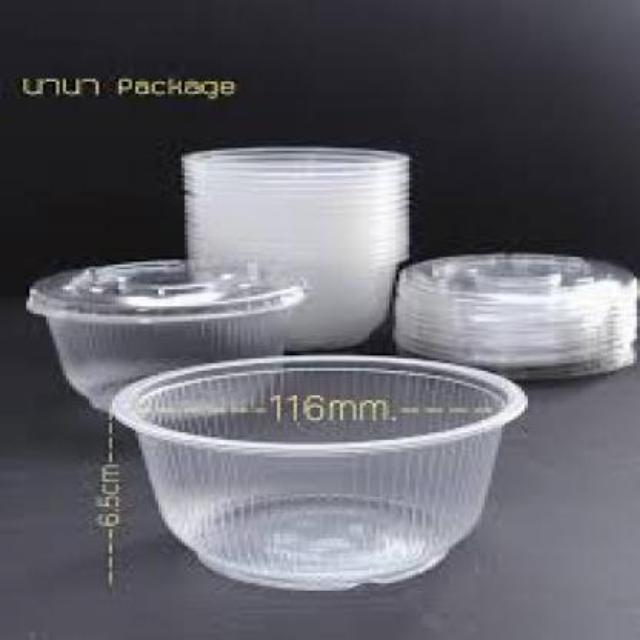plastic_box: (115, 353, 530, 593)
